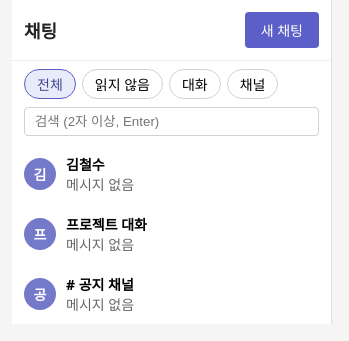
Test: 대화 목록 분리와 메뉴 › 대화·채널 필터로 목록을 나눈다
Click the button "채널": (253, 84) 227,69 -> 278,99
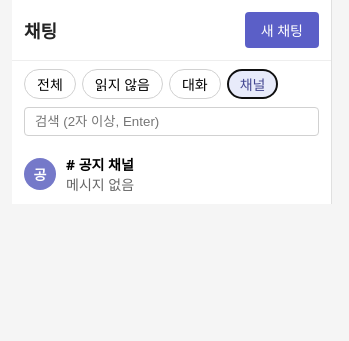
Expected: the text "# 공지 채널" is shown, 66,154 -> 134,174
Result: the button "김철수" is gone
Result: the button "프로젝트 대화" is gone
Click the button "대화": (195, 84) 169,69 -> 221,99
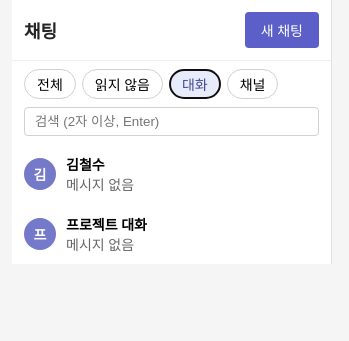
Result: the text "김철수" is shown at 66,154 -> 105,174
Result: the text "프로젝트 대화" is shown at 66,214 -> 147,234
Result: the button "# 공지 채널" is gone
